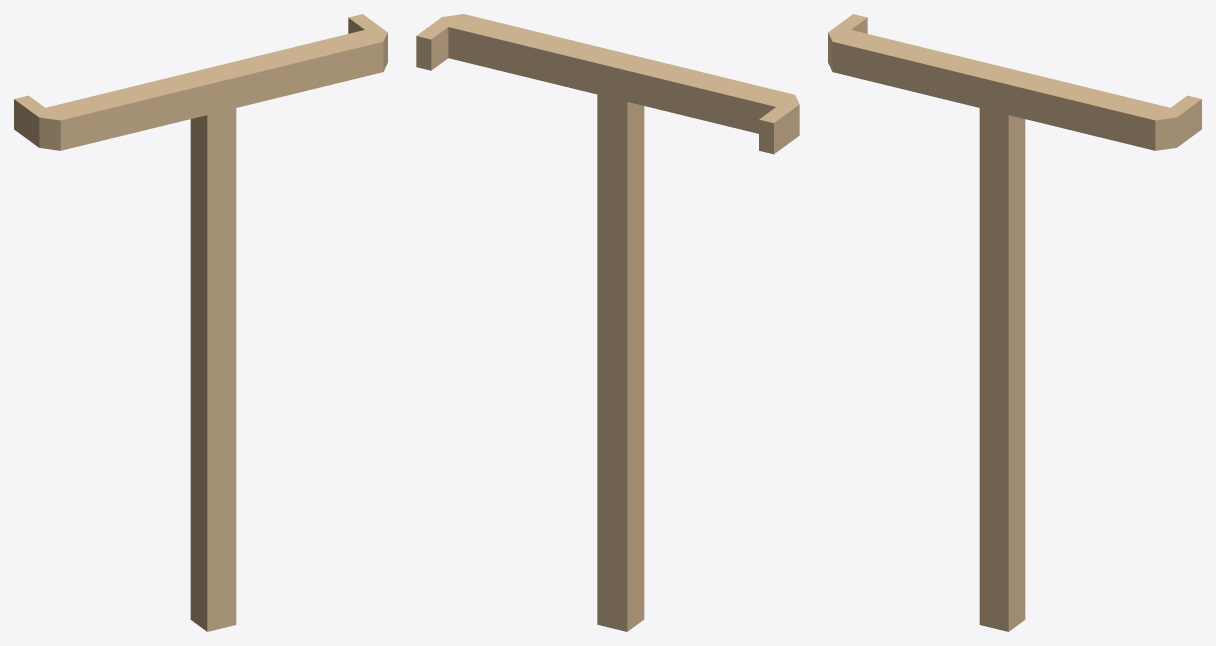
The model's file is Prop_Flag_Stand_Top.glb.
The picture shows the model from 3 angles, left to right: view 1: azimuth 30°, elevation 25°; view 2: azimuth 150°, elevation 25°; view 3: azimuth 330°, elevation 25°; orthographic projection. The views are drawn at different scales.
Parts seen in each view (by area): view 1: Sandstone_6; view 2: Sandstone_6; view 3: Sandstone_6.
Part boxes in pixels (x1,y1,x2,y2): Sandstone_6: (14, 14, 387, 631); Sandstone_6: (416, 14, 799, 631); Sandstone_6: (828, 14, 1201, 631).
Size of the model in its own units: 0.54 by 0.81 by 0.09.
